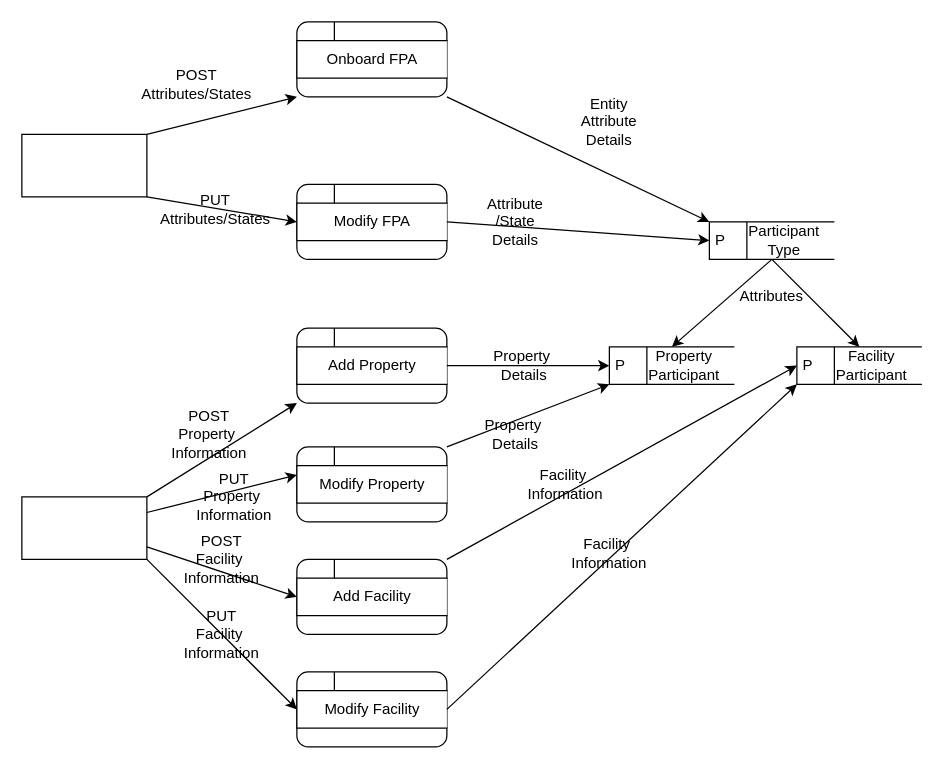
The diagram is 944 pixels wide and 769 high, and some of its shapes have lost their labels. Here are the shapes that lost their labels. From the top down, the centre of each, then its label:
At [84,165]: "Admin".
At [84,527]: "Business User".
